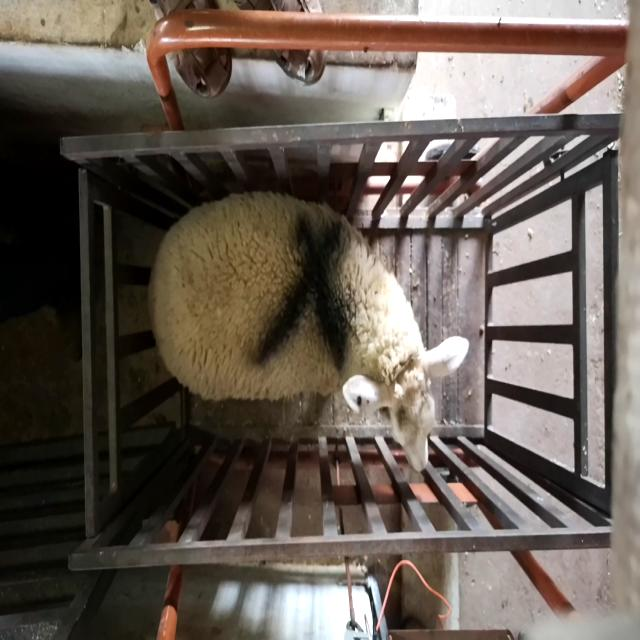sheep: (149, 194, 470, 474)
